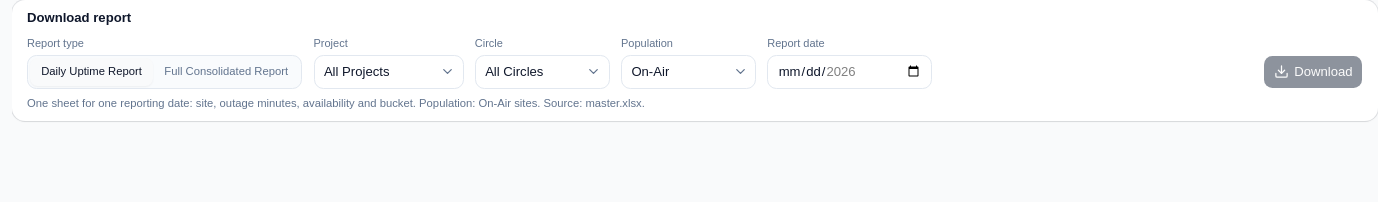
Test: Report download › refuses dates without data and shows the server error instead of a download
Type "2026-10-20" into the date field labelled "Report date" at (850, 72), box [767,55,932,89]
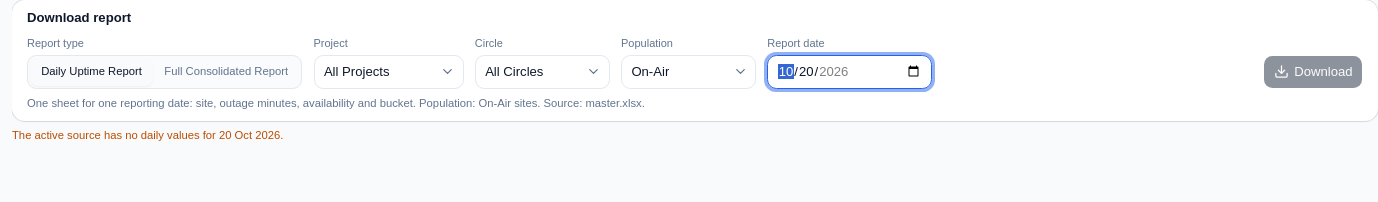
Expected: the button "Download" is disabled, [1263,55,1363,89]
Expected: the text "The active source has no daily values for 20 Oct 2026." is shown, [12,129,283,141]
Type "2026-10-02" into the date field labelled "Report date" at (850, 72), box [767,55,932,89]
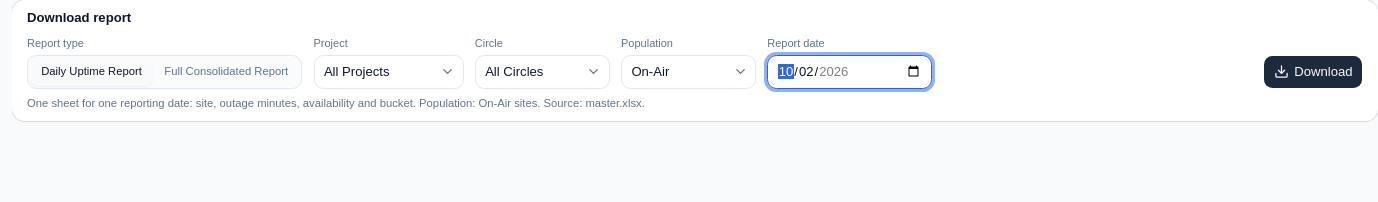
Click the button "Download" at (1313, 72), box [1263,55,1363,89]
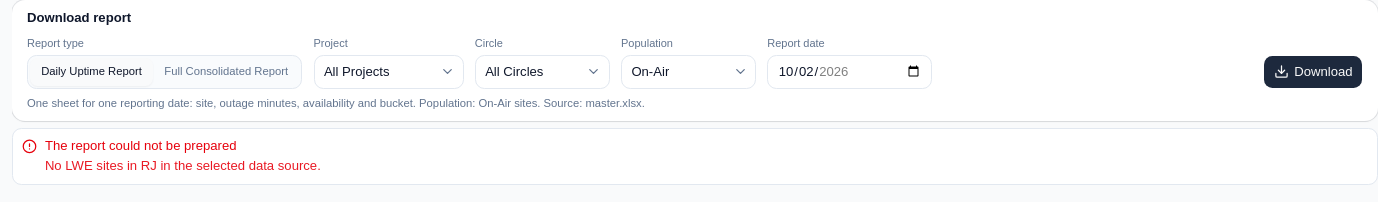
Expected: the text "The report could not be prepared" is shown, [45,138,237,153]
Expected: the text "No LWE sites in RJ in the selected data source." is shown, [45,158,321,173]
